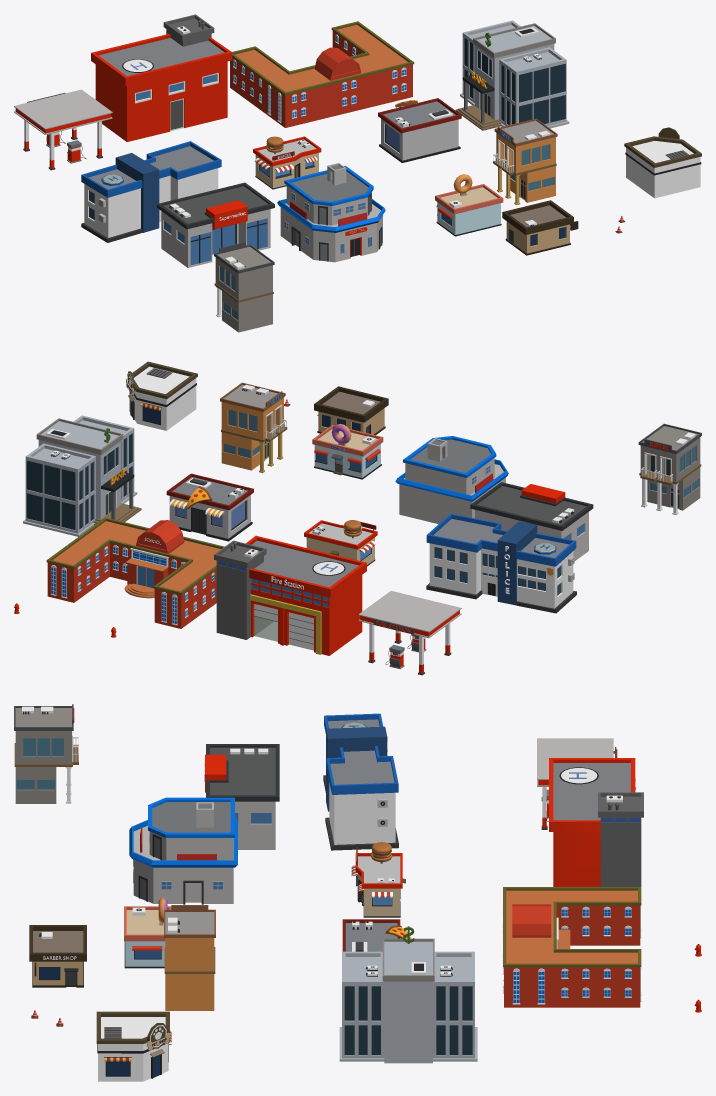
Rendered from Low poly city 2.fbx.
3 renders of one model, top to bottom at view 1: azimuth 30°, elevation 25°; view 2: azimuth 150°, elevation 25°; view 3: azimuth 270°, elevation 25°, orthographic. The views are drawn at different scales.
Parts seen in each view (by area): view 1: Fire_Station_1, School_1, Bank_1, Police_Station_1, Hospital_1, Supermarket_1, Hotel_2, Hotel_1__1_, Pizza_Place_1, Pet_Shop_1, Fuel_Station_1, Barber_Shop_1 (+2 smaller); view 2: Fire_Station_1, School_1, Bank_1, Police_Station_1, Hospital_1, Supermarket_1, Hotel_1__1_, Hotel_2, Pizza_Place_1, Fuel_Station_1, Pet_Shop_1, Donuts_Place_1 (+2 smaller); view 3: School_1, Bank_1, Fire_Station_1, Hospital_1, Police_Station_1, Supermarket_1, Hotel_2, Hotel_1__1_, Pet_Shop_1, Barber_Shop_1, Burger_Place_1, Donuts_Place_1 (+2 smaller).
Part boxes in pixels (<box>): Fire_Station_1: <box>91,14,232,141</box>; School_1: <box>230,21,414,127</box>; Bank_1: <box>455,20,569,130</box>; Police_Station_1: <box>81,141,221,242</box>; Hospital_1: <box>277,163,385,262</box>; Supermarket_1: <box>157,182,274,267</box>; Hotel_2: <box>214,242,274,332</box>; Hotel_1__1_: <box>493,118,557,205</box>; Pizza_Place_1: <box>378,98,461,162</box>; Pet_Shop_1: <box>624,127,701,198</box>; Fuel_Station_1: <box>14,89,112,170</box>; Barber_Shop_1: <box>502,200,578,255</box>; Fire_Station_1: <box>214,535,366,655</box>; School_1: <box>46,517,224,628</box>; Bank_1: <box>23,415,141,536</box>; Police_Station_1: <box>426,513,576,613</box>; Hospital_1: <box>395,436,508,523</box>; Supermarket_1: <box>470,482,593,560</box>; Hotel_1__1_: <box>220,382,287,472</box>; Hotel_2: <box>638,423,701,515</box>; Pizza_Place_1: <box>166,473,253,541</box>; Fuel_Station_1: <box>358,591,461,675</box>; Pet_Shop_1: <box>126,361,197,430</box>; Donuts_Place_1: <box>312,423,383,479</box>; School_1: <box>502,887,641,1007</box>; Bank_1: <box>339,926,477,1063</box>; Fire_Station_1: <box>549,758,643,886</box>; Hospital_1: <box>129,797,237,904</box>; Police_Station_1: <box>323,713,398,850</box>; Supermarket_1: <box>204,744,279,849</box>; Hotel_2: <box>14,704,78,803</box>; Hotel_1__1_: <box>164,905,215,1010</box>; Pet_Shop_1: <box>96,1011,171,1081</box>; Barber_Shop_1: <box>29,925,86,987</box>; Burger_Place_1: <box>351,842,405,917</box>; Donuts_Place_1: <box>124,898,171,968</box>.
Bounding box in the file's own units: 9927 × 1578 × 9441.
1 material, 1 textured.
